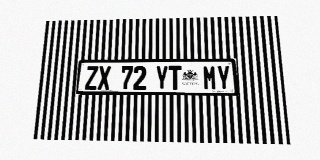2: (133, 66, 146, 90)
7: (120, 66, 133, 90)
M: (203, 65, 217, 90)
T: (168, 66, 182, 90)
X: (97, 66, 111, 90)
Y: (216, 65, 231, 90), (155, 66, 168, 90)
Z: (85, 66, 98, 90)
